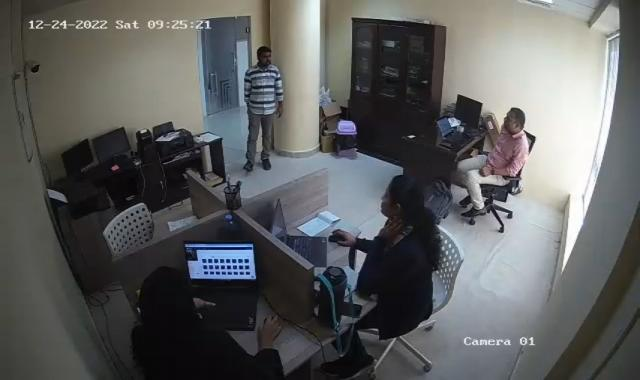no_hairnet: (141, 268, 198, 331), (378, 177, 424, 219), (502, 105, 526, 134), (255, 44, 273, 67)
